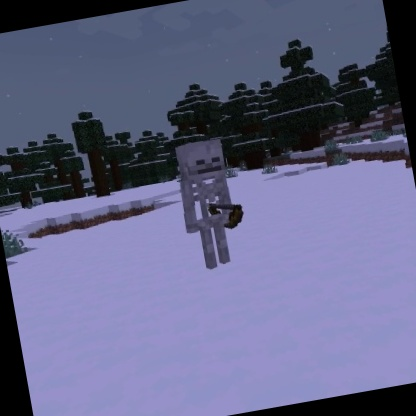skeleton: (167, 132, 256, 277)
